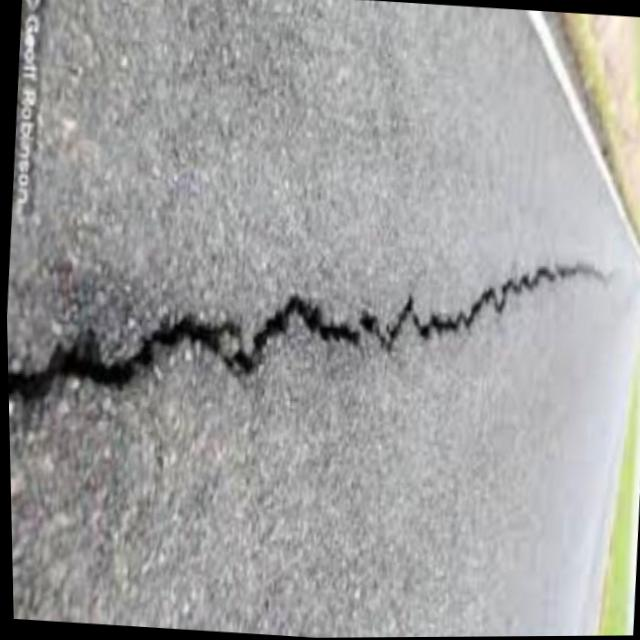Crack: (3, 195, 622, 516)
